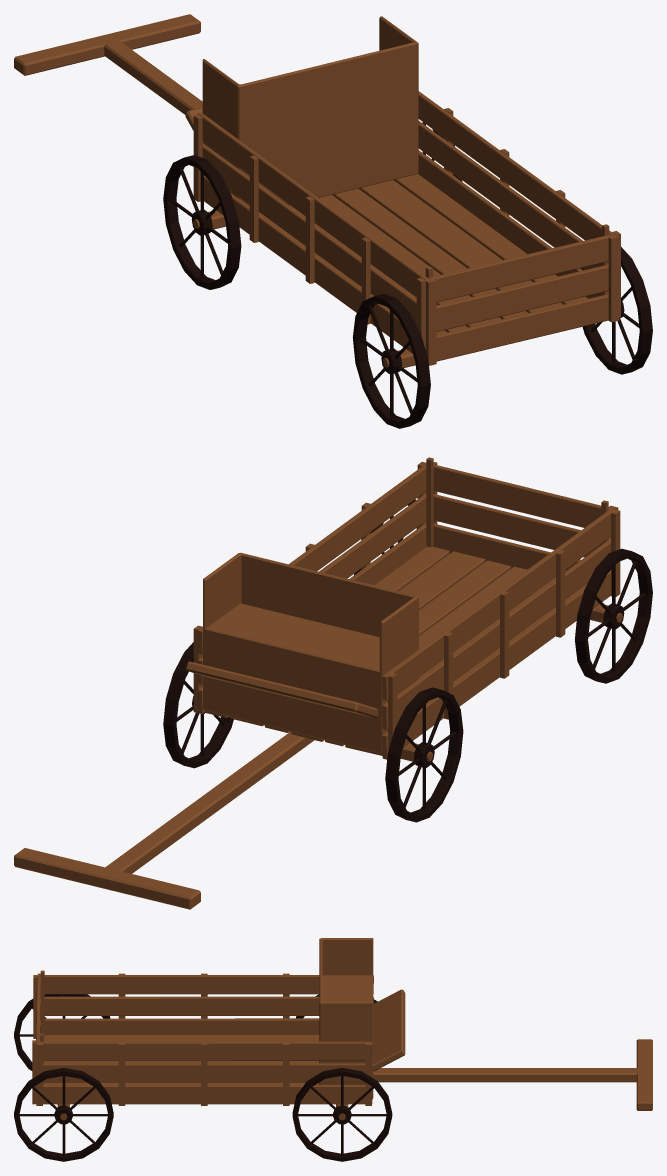
The model's file is ww_cart_b.glb.
The picture shows the model from 3 angles, top to bottom: view 1: azimuth 30°, elevation 25°; view 2: azimuth 150°, elevation 25°; view 3: azimuth 270°, elevation 25°; orthographic projection. The views are drawn at different scales.
Parts seen in each view (by area): view 1: Cart_B; view 2: Cart_B; view 3: Cart_B.
Part boxes in pixels (left/top/right/bottom): Cart_B: left=14, top=14, right=652, bottom=428; Cart_B: left=14, top=457, right=652, bottom=909; Cart_B: left=14, top=938, right=652, bottom=1161.
Size of the model in its own units: 2.08 by 1.73 by 6.68.
